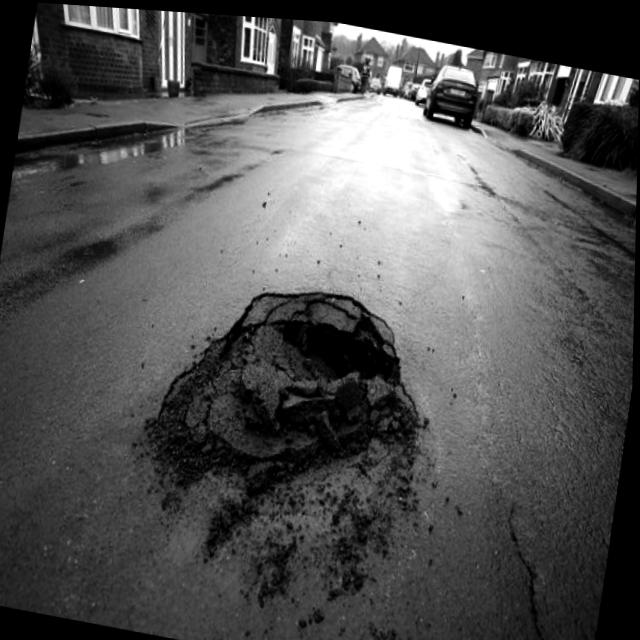pathole: (149, 288, 428, 598)
